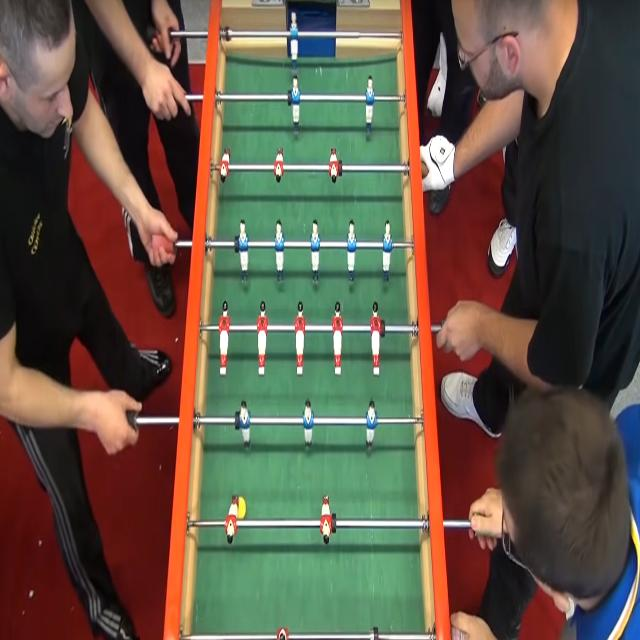ball: (233, 492, 250, 524)
